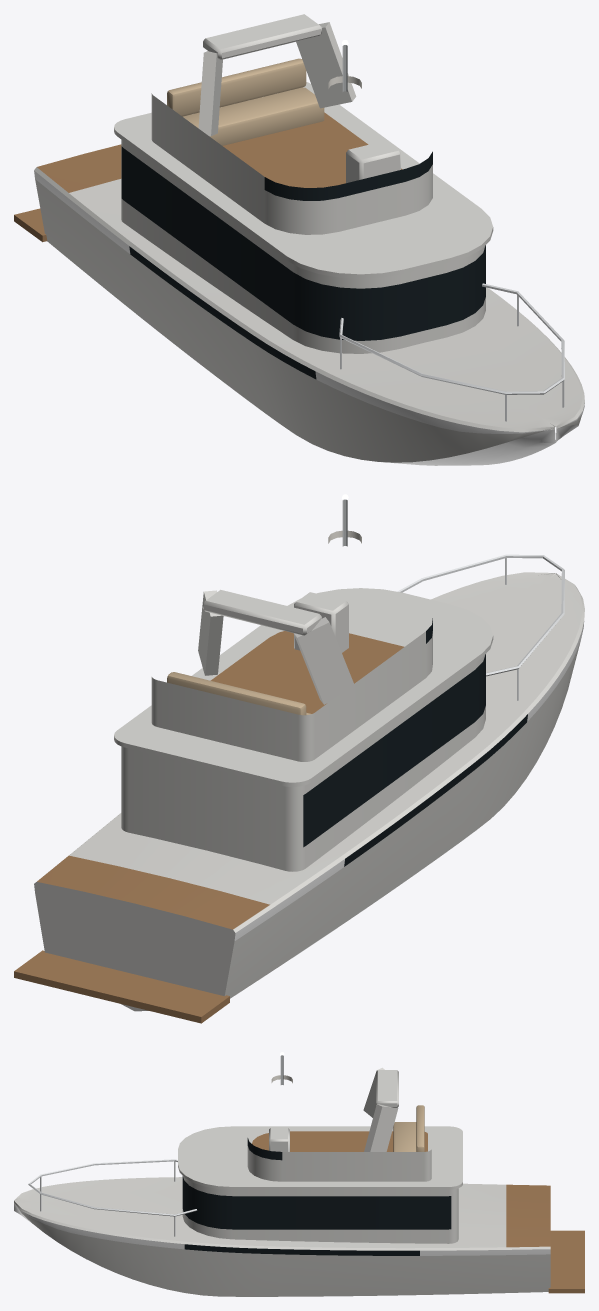
The model's file is boat_cruiser.gltf.
The picture shows the model from 3 angles, top to bottom: view 1: azimuth 30°, elevation 25°; view 2: azimuth 150°, elevation 25°; view 3: azimuth 270°, elevation 25°; orthographic projection. The views are drawn at different scales.
Visible parts, largest first — view 1: boat_cruiser_body; view 2: boat_cruiser_body; view 3: boat_cruiser_body.
Boxes of the visible parts, box(x1,y1,x2,y2) form: boat_cruiser_body: box(14, 14, 584, 465); boat_cruiser_body: box(14, 494, 584, 1023); boat_cruiser_body: box(14, 1052, 584, 1296).
Size of the model in its own units: 4.3 by 6.72 by 14.9.
